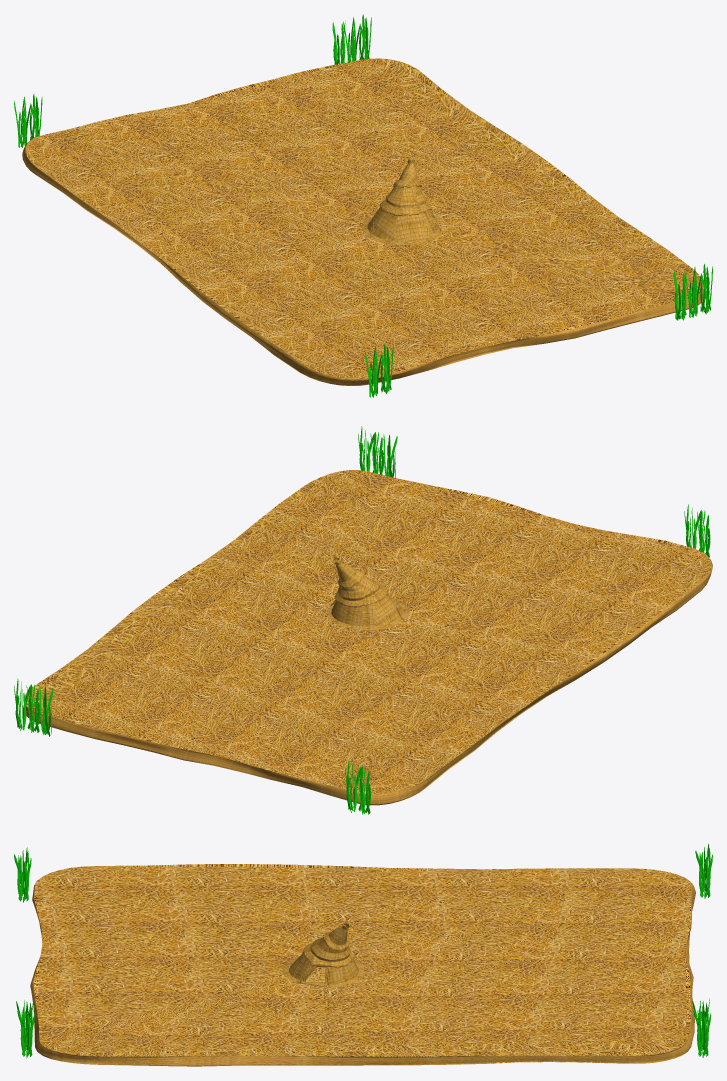
Rendered from islaMedio.glb.
The picture shows the model from 3 angles, top to bottom: view 1: azimuth 30°, elevation 25°; view 2: azimuth 150°, elevation 25°; view 3: azimuth 270°, elevation 25°; orthographic projection.
Parts seen in each view (by area): view 1: Cube.001, material.003; view 2: Cube.001, material.003; view 3: Cube.001, material.003, Cone.003, Cone.002, Cone.006, Cone.009.
Boxes of the visible parts, bbox=[...] form: Cube.001: bbox=[22, 58, 703, 385]; material.003: bbox=[362, 158, 441, 244]; Cube.001: bbox=[25, 470, 712, 805]; material.003: bbox=[327, 558, 409, 629]; Cube.001: bbox=[30, 864, 695, 1066]; material.003: bbox=[283, 923, 363, 987]; Cone.003: bbox=[697, 1010, 710, 1057]; Cone.002: bbox=[21, 1011, 34, 1058]; Cone.006: bbox=[18, 855, 31, 902]; Cone.009: bbox=[699, 852, 712, 898].
Size of the model in its own units: 19.88 by 3.32 by 30.29.
3 materials, 2 textured.
